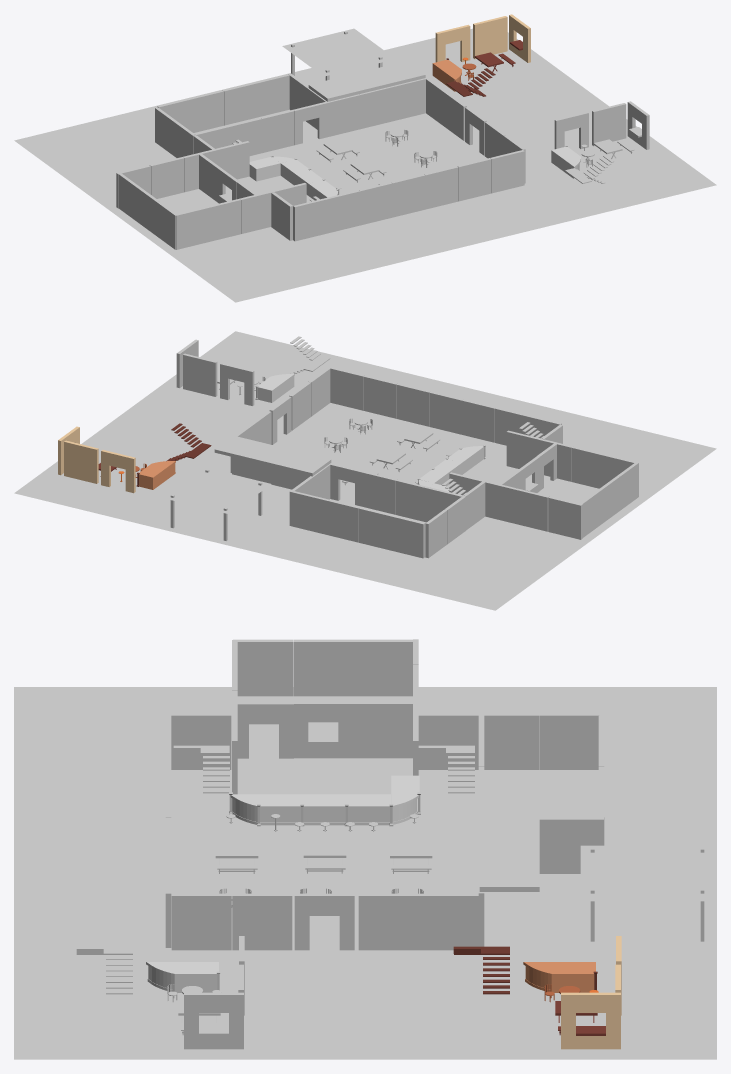
The model's file is Bar_Assets.fbx.
3 views of the same model, one above another, from view 1: azimuth 30°, elevation 25°; view 2: azimuth 150°, elevation 25°; view 3: azimuth 270°, elevation 25° (orthographic). The views are drawn at different scales.
Parts seen in each view (by area): view 1: Plane, Plane.001, Wall_1.003, Wall_1.019, Wall_1.004, Wall_1.020, Wall_1.026, Wall, Wall.001, Wall_1.013, Wall_1.010, Wall_1.018 (+39 smaller); view 2: Plane, Plane.001, Wall_1.028, Wall, Wall.001, Wall_1.037, Wall_1.019, Wall_1.020, Wall_1.034, Wall_1.018, Wall_1.035, Wall_1.027 (+36 smaller); view 3: Plane, Plane.001, Wall_1.021, Wall_1.023, Wall_1.031, Wall_1.024, Wall_1.030, Wall_1.022, Wall_1.016, Wall_1.038, Wall_1.032, Wall_1.039 (+27 smaller).
Boxes of the visible parts, x1=… form: Plane: x1=14, y1=28, x2=716, y2=302; Plane.001: x1=282, y1=28, x2=395, y2=76; Wall_1.003: x1=293, y1=198, x2=327, y2=241; Wall_1.019: x1=457, y1=158, x2=491, y2=201; Wall_1.004: x1=326, y1=190, x2=360, y2=233; Wall_1.020: x1=490, y1=150, x2=524, y2=193; Wall_1.026: x1=207, y1=198, x2=241, y2=241; Wall: x1=592, y1=103, x2=626, y2=146; Wall.001: x1=473, y1=16, x2=507, y2=59; Wall_1.013: x1=326, y1=94, x2=360, y2=136; Wall_1.010: x1=260, y1=110, x2=294, y2=153; Wall_1.018: x1=424, y1=166, x2=458, y2=209; Plane: x1=14, y1=331, x2=716, y2=610; Plane.001: x1=158, y1=466, x2=271, y2=514; Wall_1.028: x1=548, y1=496, x2=582, y2=539; Wall: x1=183, y1=353, x2=217, y2=396; Wall.001: x1=64, y1=440, x2=98, y2=483; Wall_1.037: x1=390, y1=515, x2=424, y2=558; Wall_1.019: x1=363, y1=375, x2=397, y2=418; Wall_1.020: x1=330, y1=367, x2=364, y2=410; Wall_1.034: x1=292, y1=491, x2=326, y2=534; Wall_1.018: x1=396, y1=383, x2=430, y2=426; Wall_1.035: x1=325, y1=499, x2=359, y2=542; Wall_1.027: x1=515, y1=488, x2=549, y2=531; Plane: x1=14, y1=687, x2=716, y2=1059; Plane.001: x1=580, y1=845, x2=712, y2=901; Wall_1.021: x1=358, y1=893, x2=418, y2=950; Wall_1.023: x1=171, y1=893, x2=231, y2=950; Wall_1.031: x1=293, y1=639, x2=353, y2=696; Wall_1.024: x1=353, y1=701, x2=412, y2=758; Wall_1.030: x1=353, y1=639, x2=412, y2=696; Wall_1.022: x1=232, y1=893, x2=292, y2=950; Wall_1.016: x1=418, y1=893, x2=478, y2=950; Wall_1.038: x1=539, y1=713, x2=599, y2=769; Wall_1.032: x1=233, y1=639, x2=292, y2=696; Wall_1.039: x1=479, y1=713, x2=538, y2=769.
Size of the model in its own units: 5081 by 393 by 4048.
